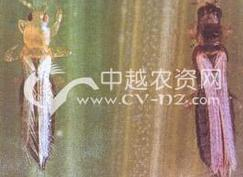pest: (191, 3, 238, 175), (15, 5, 64, 167)
